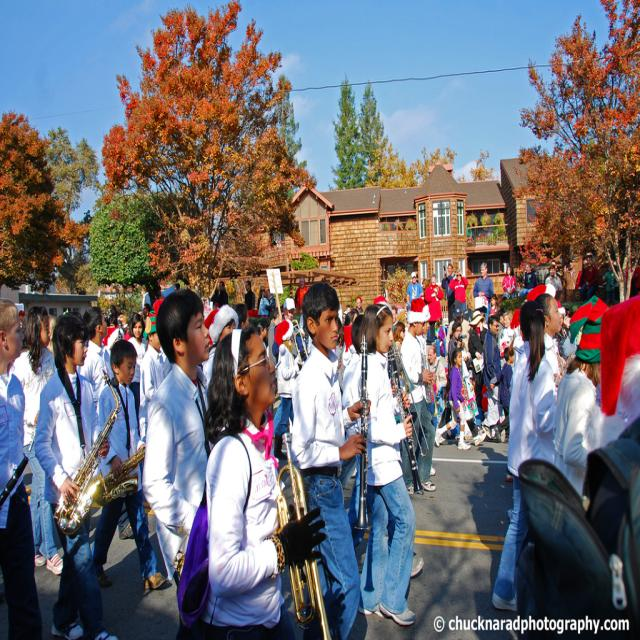clarinet: (386, 336, 426, 498), (351, 333, 370, 547), (1, 414, 40, 516)
saxophone: (47, 356, 122, 540), (93, 442, 147, 501)
